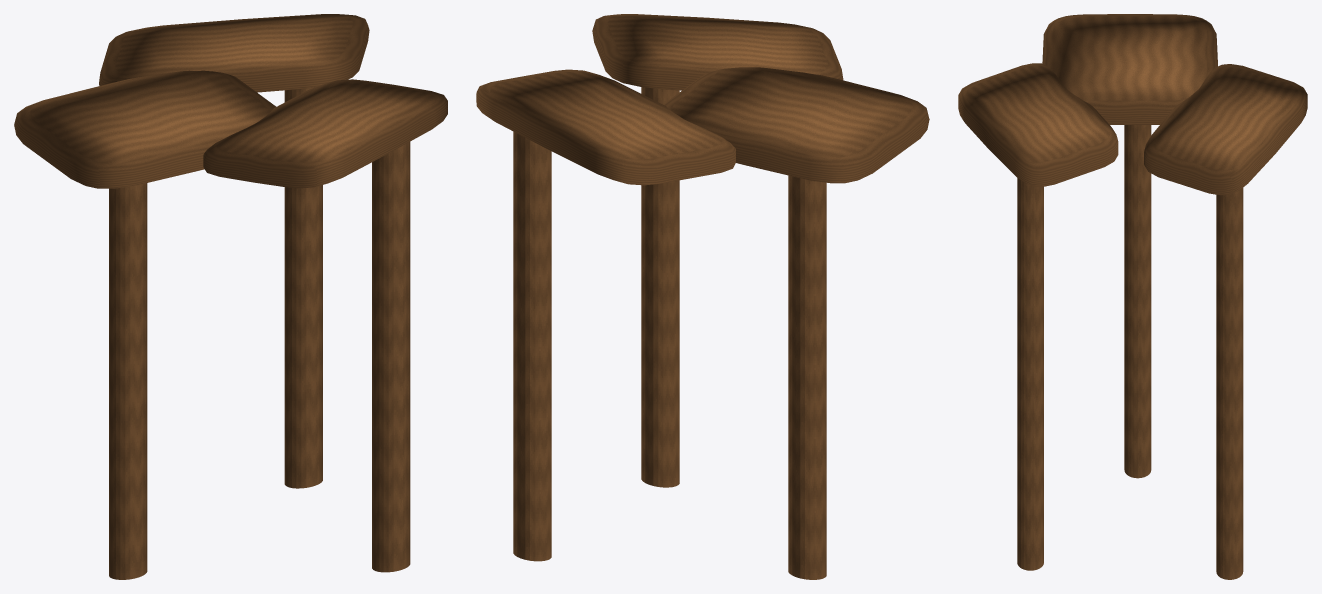
3 views of the same model, side by side, from view 1: azimuth 30°, elevation 25°; view 2: azimuth 150°, elevation 25°; view 3: azimuth 270°, elevation 25° (orthographic). The views are drawn at different scales.
Visible parts, largest first — view 1: 1 tabletop_center, 3 tabletop_front_arm, 5 leg_front, 2 tabletop_back_arm, 4 leg_left, 6 leg_back_right; view 2: 1 tabletop_center, 2 tabletop_back_arm, 6 leg_back_right, 4 leg_left, 3 tabletop_front_arm, 5 leg_front; view 3: 1 tabletop_center, 2 tabletop_back_arm, 3 tabletop_front_arm, 6 leg_back_right, 5 leg_front, 4 leg_left.
Boxes of the visible parts, x1,y1,x2,y2 form: 1 tabletop_center: [14, 70, 276, 188]; 3 tabletop_front_arm: [203, 79, 447, 188]; 5 leg_front: [372, 142, 410, 572]; 2 tabletop_back_arm: [99, 14, 369, 92]; 4 leg_left: [109, 183, 147, 579]; 6 leg_back_right: [284, 87, 322, 488]; 1 tabletop_center: [663, 67, 929, 183]; 2 tabletop_back_arm: [476, 69, 735, 185]; 6 leg_back_right: [513, 131, 551, 561]; 4 leg_left: [788, 175, 826, 579]; 3 tabletop_front_arm: [592, 14, 843, 90]; 5 leg_front: [641, 87, 679, 487]; 1 tabletop_center: [1042, 14, 1217, 124]; 2 tabletop_back_arm: [1144, 64, 1307, 195]; 3 tabletop_front_arm: [958, 63, 1118, 186]; 6 leg_back_right: [1216, 188, 1243, 579]; 5 leg_front: [1017, 178, 1043, 570]; 4 leg_left: [1124, 125, 1151, 478].
Size of the model in its own units: 0.85 by 1 by 0.75.
1 material, 1 textured.
